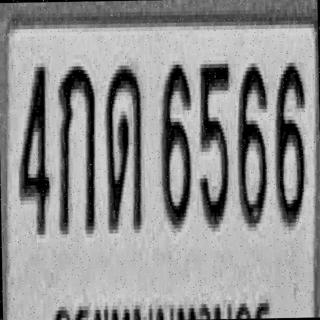A01: (56, 62, 97, 234)
A20: (104, 62, 144, 230)
N04: (17, 63, 50, 235)
N05: (198, 60, 232, 228)
N06: (159, 60, 192, 228), (273, 58, 306, 226), (236, 61, 269, 225)
